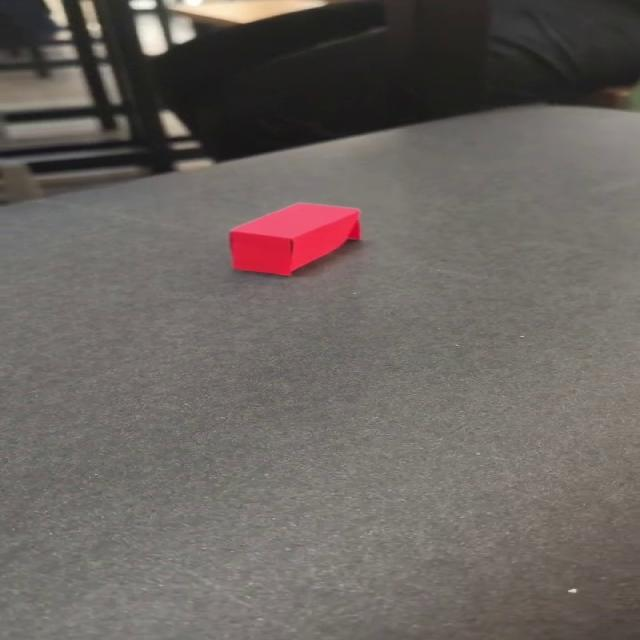red block: (227, 201, 361, 276)
